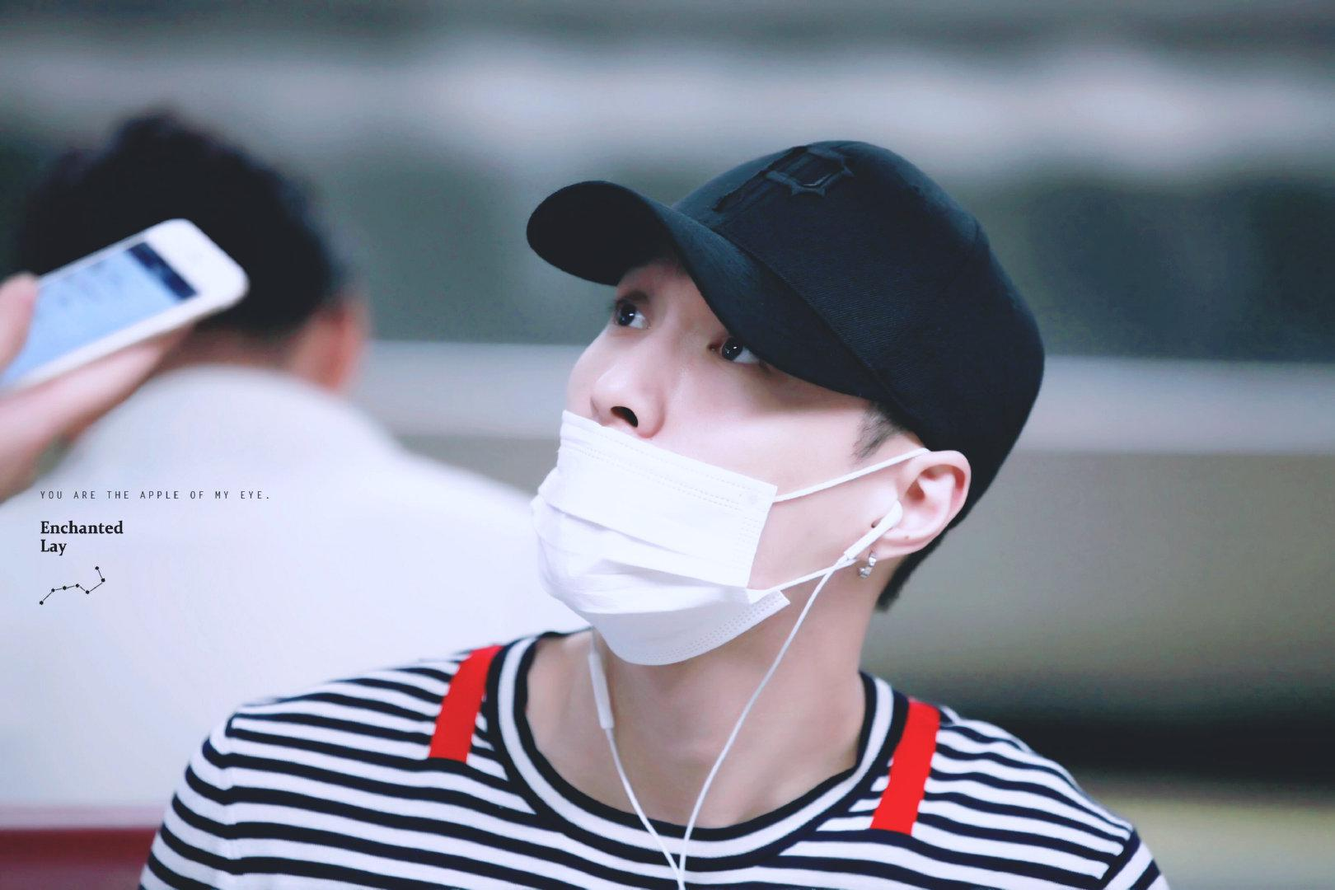WRONG: (549, 253, 808, 619)
